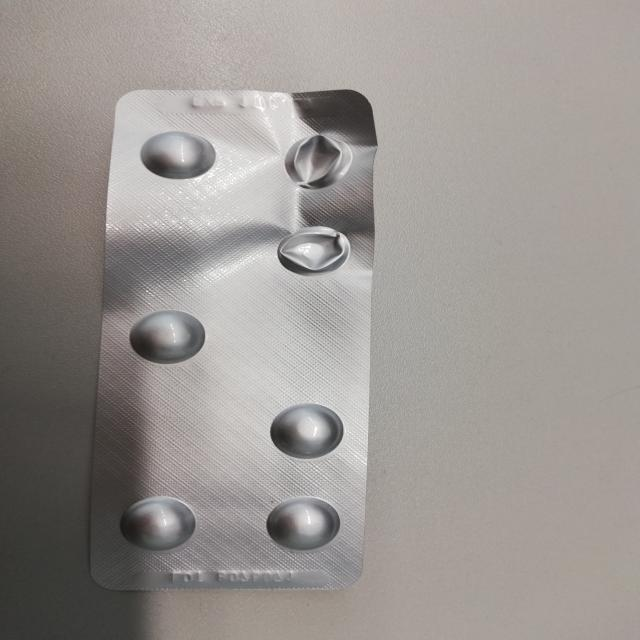Empty: (266, 222, 357, 279), (279, 126, 353, 192)
Pill: (262, 400, 352, 462), (132, 125, 222, 185), (122, 306, 210, 366), (111, 492, 201, 550), (262, 496, 346, 554)
